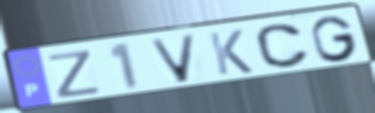1: (108, 40, 140, 93)
C: (253, 22, 313, 70)
G: (308, 14, 361, 64)
K: (205, 28, 255, 77)
V: (147, 32, 200, 85)
Z: (45, 48, 104, 101)
